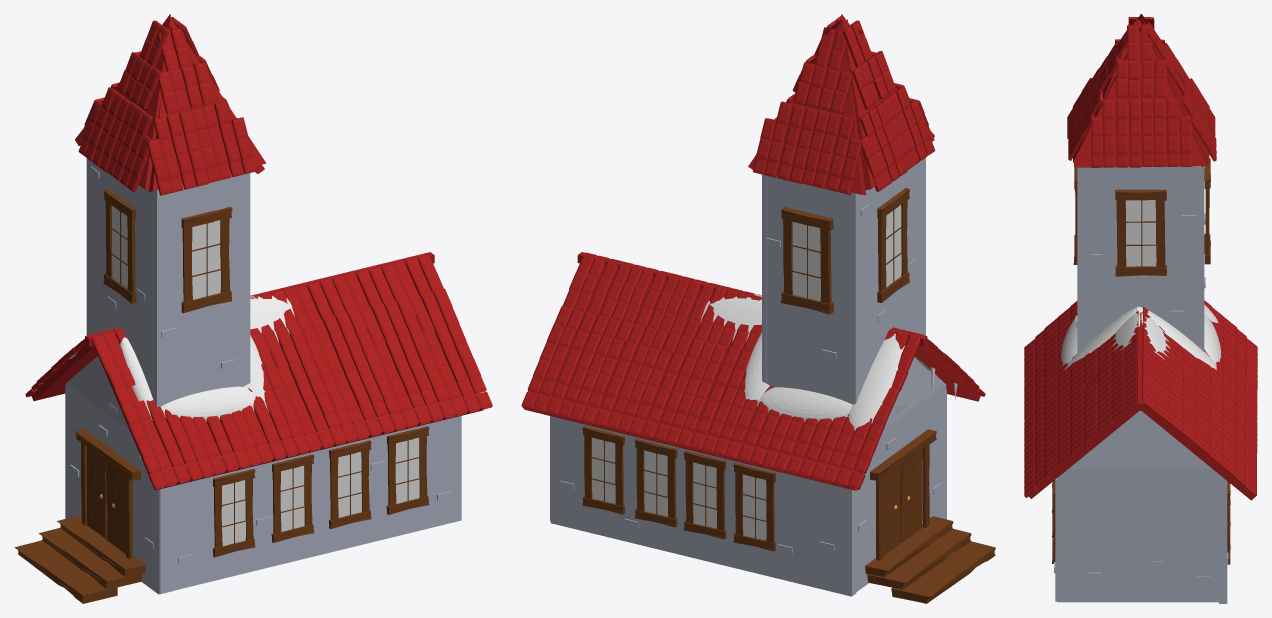
The model's file is Church.fbx.
3 renders of one model, left to right at view 1: azimuth 30°, elevation 25°; view 2: azimuth 150°, elevation 25°; view 3: azimuth 270°, elevation 25°, orthographic. The views are drawn at different scales.
Visible parts, largest first — view 1: Cube.2451, Cube.2447, Cube.2450, Cube.2454, Cube.3266, Cube.2455, Cube.3265, Sphere.134, Cube.3260, Cube.2463, Cube.3262, Cube.3264 (+21 smaller); view 2: Cube.2452, Cube.2448, Cube.2450, Cube.2454, Cube.2456, Cube.3266, Sphere.137, Sphere.136, Cube.3265, Cube.3260, Cube.3262, Cube.2453 (+23 smaller); view 3: Cube.2453, Cube.2449, Cube.2462, Cube.2460, Cube.2456, Cube.2447, Cube.3076, Cube.3082, Cube.2455, Sphere.135, Sphere.126, Cube.2458 (+12 smaller).
Part boxes in pixels (<box>): Cube.2451: <box>159,416,461,593</box>; Cube.2447: <box>156,172,250,406</box>; Cube.2450: <box>87,158,155,404</box>; Cube.2454: <box>65,383,172,594</box>; Cube.3266: <box>14,540,117,603</box>; Cube.2455: <box>105,266,483,490</box>; Cube.3265: <box>39,527,141,589</box>; Sphere.134: <box>161,386,255,422</box>; Cube.3260: <box>57,515,145,576</box>; Cube.2463: <box>66,356,129,429</box>; Cube.3262: <box>106,463,125,553</box>; Cube.3264: <box>87,447,106,538</box>; Cube.2452: <box>550,419,856,596</box>; Cube.2448: <box>766,174,855,403</box>; Cube.2450: <box>851,158,925,404</box>; Cube.2454: <box>837,383,946,595</box>; Cube.2456: <box>522,265,907,490</box>; Cube.3266: <box>891,541,995,603</box>; Sphere.137: <box>848,333,904,431</box>; Sphere.136: <box>756,387,852,422</box>; Cube.3265: <box>867,528,971,589</box>; Cube.3260: <box>865,516,953,577</box>; Cube.3262: <box>900,450,922,542</box>; Cube.2453: <box>550,416,564,524</box>; Cube.2453: <box>1057,469,1227,602</box>; Cube.2449: <box>1083,166,1204,351</box>; Cube.2462: <box>1064,411,1216,472</box>; Cube.2460: <box>1074,17,1205,167</box>; Cube.2456: <box>1142,341,1257,500</box>; Cube.2447: <box>1077,167,1083,353</box>; Cube.3076: <box>1126,220,1156,266</box>; Cube.3082: <box>1126,200,1155,243</box>; Cube.2455: <box>1029,406,1138,498</box>; Sphere.135: <box>1136,306,1216,369</box>; Sphere.126: <box>1064,308,1136,369</box>; Cube.2458: <box>1141,18,1209,167</box>.
Bounding box in the file's own units: 2158 × 2878 × 1255.
